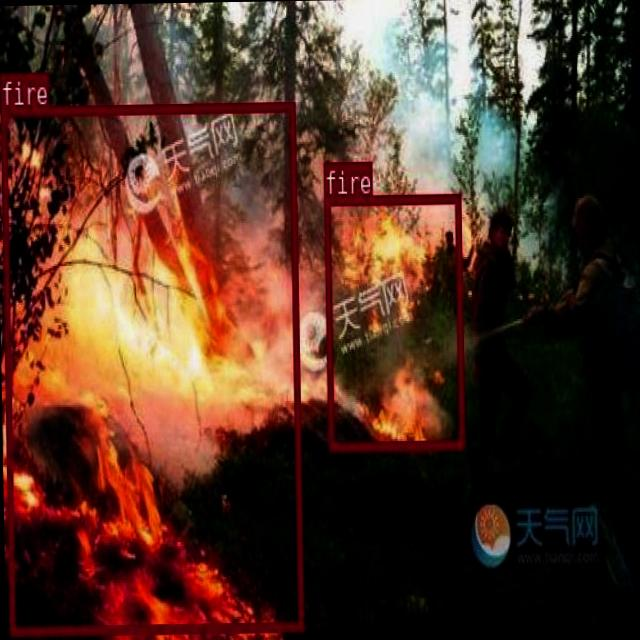fire: (0, 100, 303, 634), (324, 192, 464, 449)
